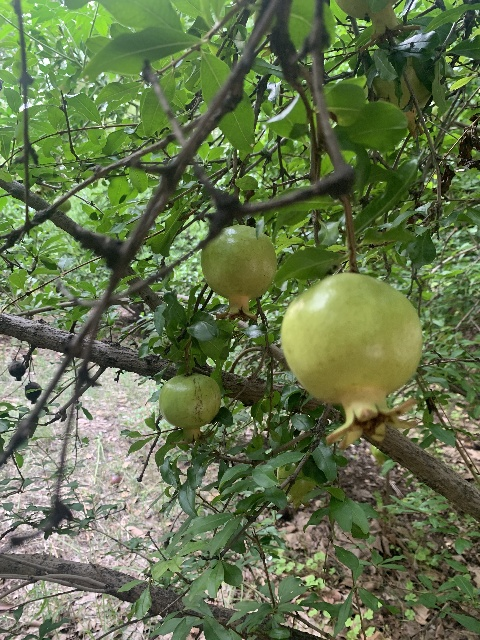mid-growth: (280, 272, 423, 449), (200, 224, 277, 323), (372, 55, 432, 138), (159, 373, 221, 446), (276, 463, 315, 511)
